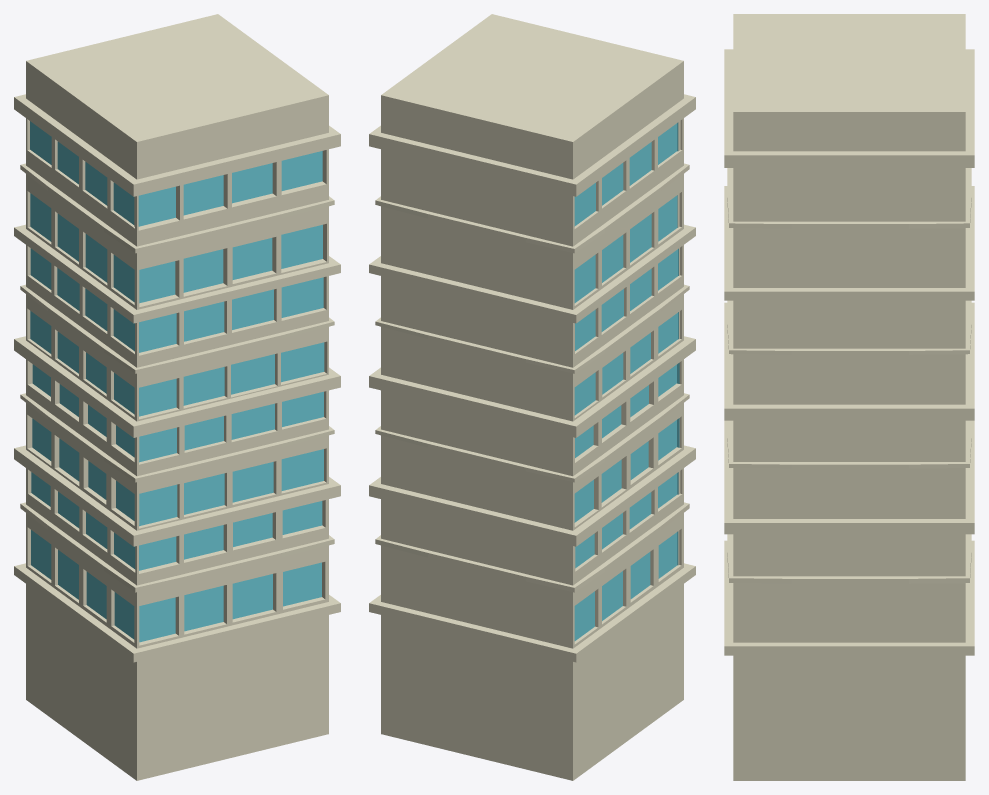
File: building1-2.fbx
The picture shows the model from 3 angles, left to right: view 1: azimuth 30°, elevation 25°; view 2: azimuth 150°, elevation 25°; view 3: azimuth 270°, elevation 25°; orthographic projection. The views are drawn at different scales.
Parts seen in each view (by area): view 1: Cube.001, Cube.002; view 2: Cube.001, Cube.002; view 3: Cube.001.
Boxes of the visible parts, x1,y1,x2,y2 form: Cube.001: (14, 14, 340, 780); Cube.002: (30, 121, 324, 642); Cube.001: (369, 14, 695, 780); Cube.002: (574, 122, 679, 640); Cube.001: (724, 14, 974, 780).
Size of the model in its own units: 212 by 626 by 212.
